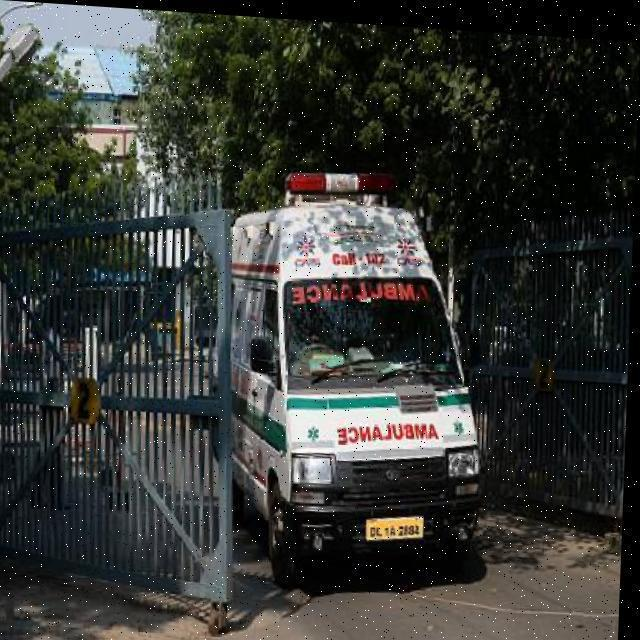Ambulance: (0, 142, 504, 598), (0, 336, 628, 640)
